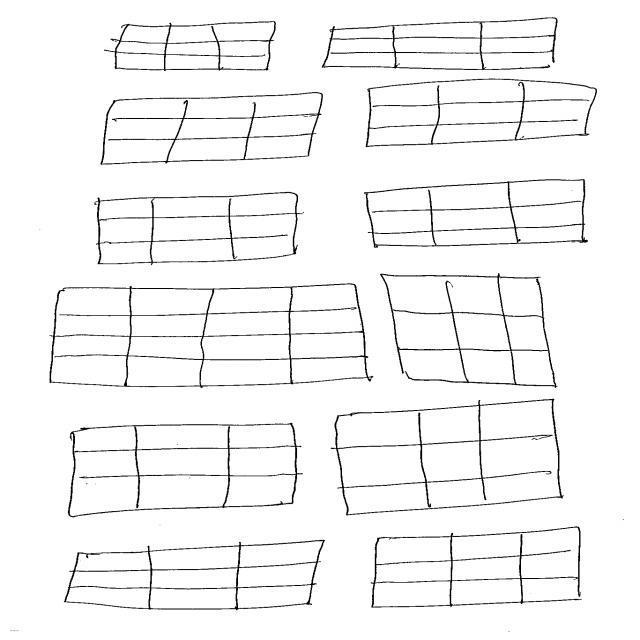table: (47, 284, 371, 390), (331, 397, 566, 519), (65, 423, 302, 521), (380, 274, 560, 388), (60, 539, 328, 615), (368, 525, 586, 612), (96, 91, 328, 168), (359, 77, 596, 150), (362, 177, 589, 250), (96, 191, 305, 268), (319, 16, 562, 71), (111, 22, 278, 74)
